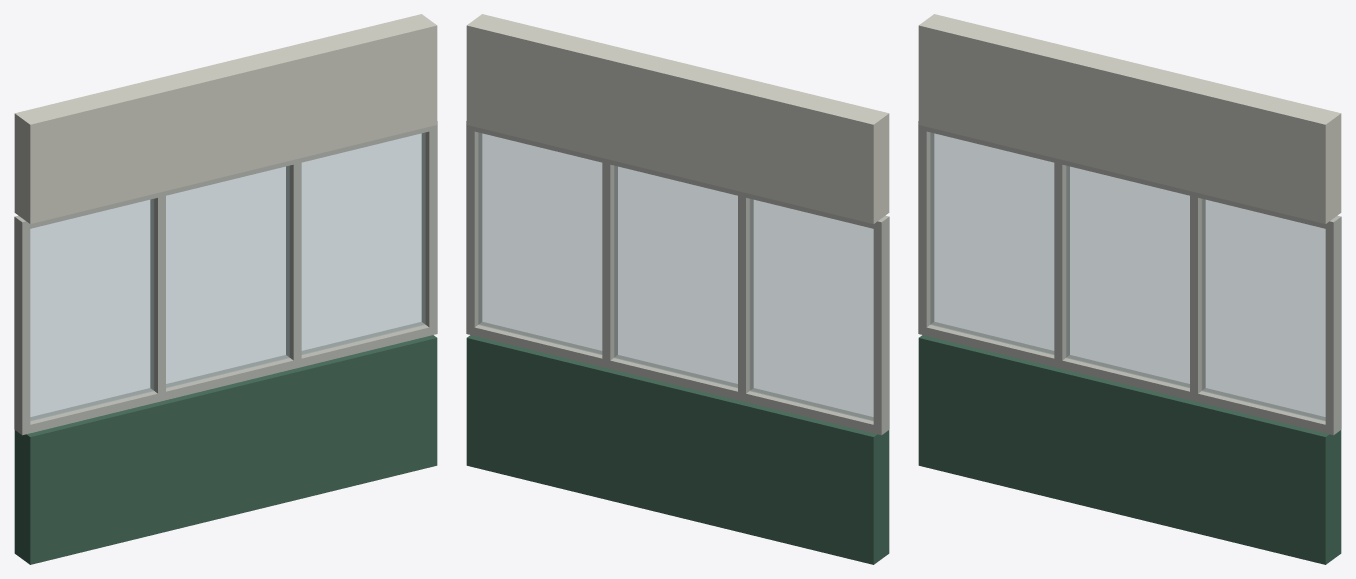
File: hosp_wall_glass.glb
3 renders of one model, left to right at view 1: azimuth 30°, elevation 25°; view 2: azimuth 150°, elevation 25°; view 3: azimuth 330°, elevation 25°, orthographic.
Parts seen in each view (by area): view 1: hosp_wall_glass-col; view 2: hosp_wall_glass-col; view 3: hosp_wall_glass-col.
Part boxes in pixels (left/top/right/bottom): hosp_wall_glass-col: left=14, top=14, right=437, bottom=564; hosp_wall_glass-col: left=466, top=14, right=889, bottom=564; hosp_wall_glass-col: left=918, top=14, right=1341, bottom=564.
Size of the model in its own units: 3.06 by 3.1 by 0.2.
